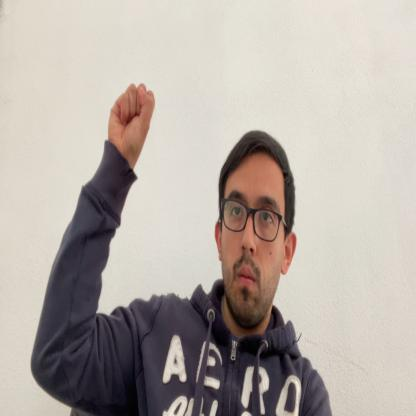S: (107, 84, 156, 160)
